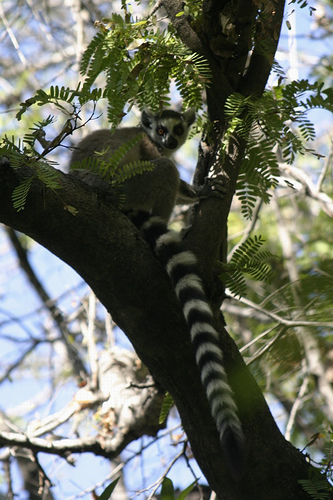cat: (66, 98, 245, 450)
